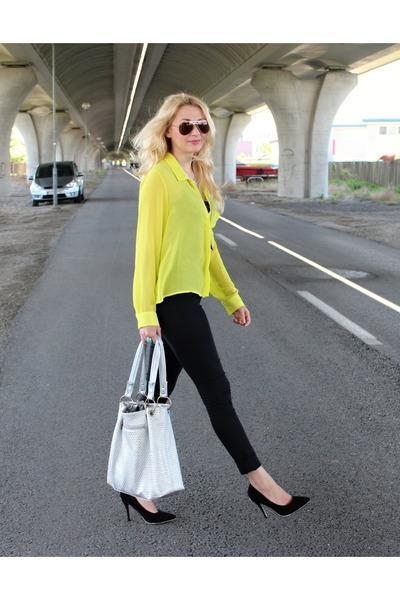bag: (107, 325, 179, 498)
pants: (154, 292, 260, 474)
shirt: (133, 156, 243, 327)
shoe: (120, 484, 309, 524)
sunglass: (180, 122, 210, 135)
